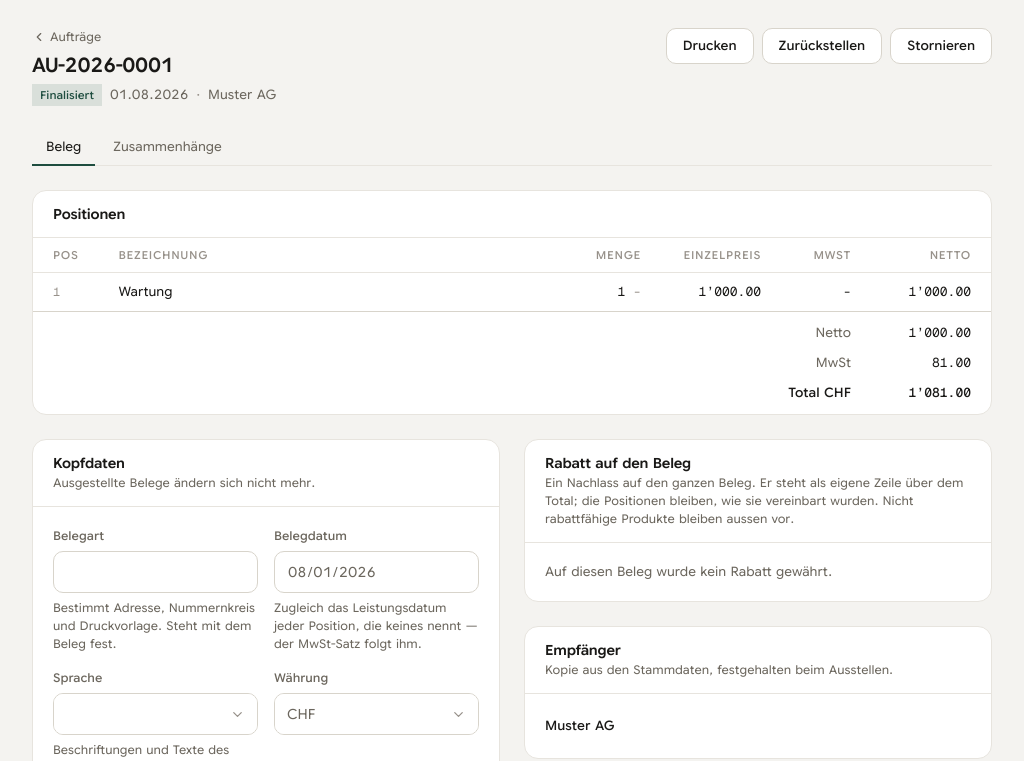
Test case: SalesDocumentPage › salesDocumentPageSaysTheStornoBooksStockBackTest
This screenshot has width=1024, height=761.
Click the button "Stornieren" at (941, 46), box [890, 28, 992, 64]
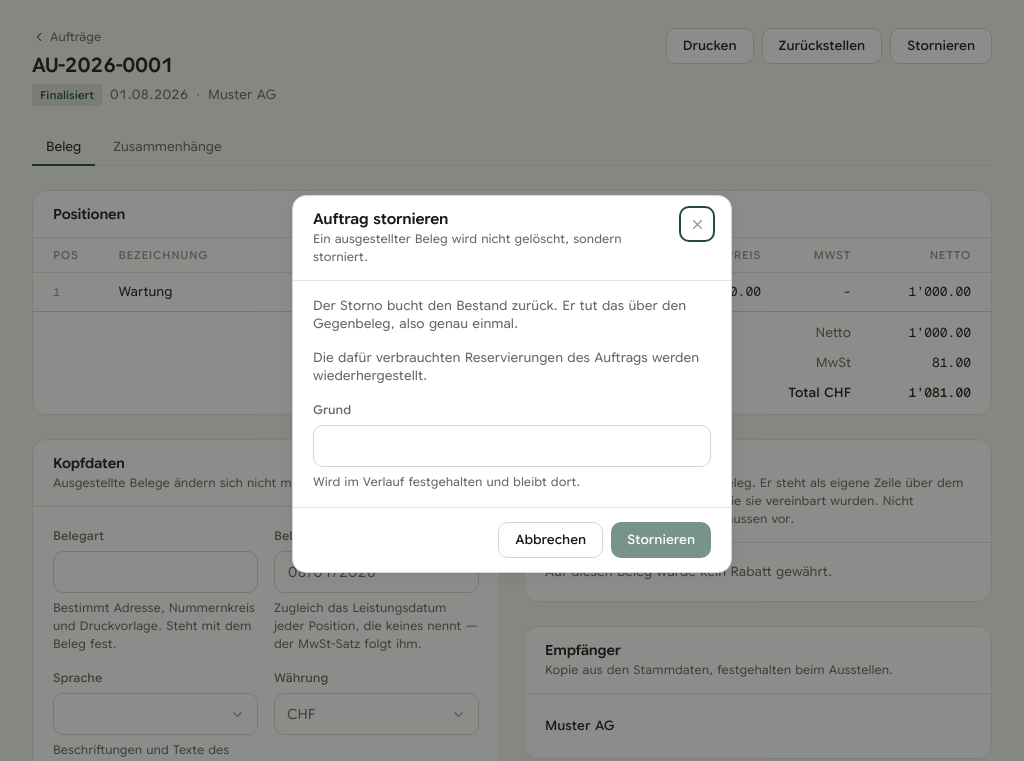
Check: the text "Der Storno bucht den Bestand zurück" is shown, box [313, 297, 686, 332]
